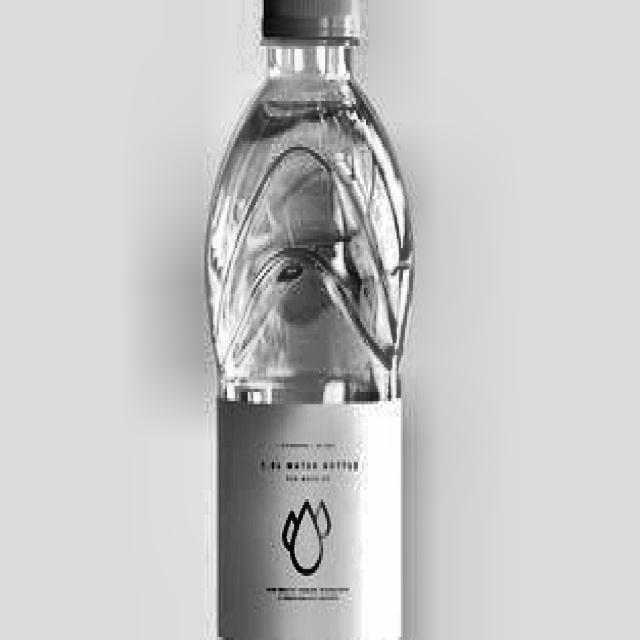bottle: (202, 0, 417, 640)
